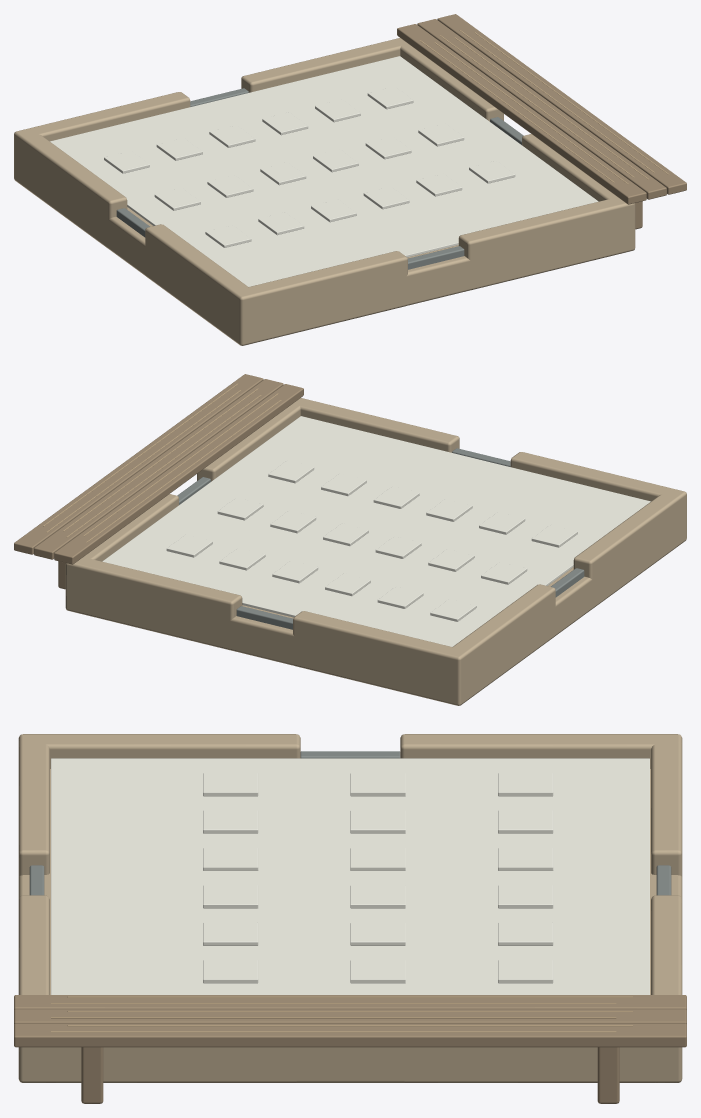
Rendered from coastal-saltworks-and-trade-port-coastal-saltworks-and-ce8e622d__31364.glb.
The picture shows the model from 3 angles, top to bottom: view 1: azimuth 30°, elevation 25°; view 2: azimuth 150°, elevation 25°; view 3: azimuth 270°, elevation 25°; orthographic projection. The views are drawn at different scales.
Parts seen in each view (by area): view 1: coastal-saltworks-and-trade-port-crystallization-basin; view 2: coastal-saltworks-and-trade-port-crystallization-basin; view 3: coastal-saltworks-and-trade-port-crystallization-basin.
Part boxes in pixels (left/top/right/bottom): coastal-saltworks-and-trade-port-crystallization-basin: left=14, top=14, right=686, bottom=345; coastal-saltworks-and-trade-port-crystallization-basin: left=14, top=374, right=686, bottom=705; coastal-saltworks-and-trade-port-crystallization-basin: left=14, top=734, right=686, bottom=1103.
Size of the model in its own units: 4.05 by 0.5029 by 3.65.
